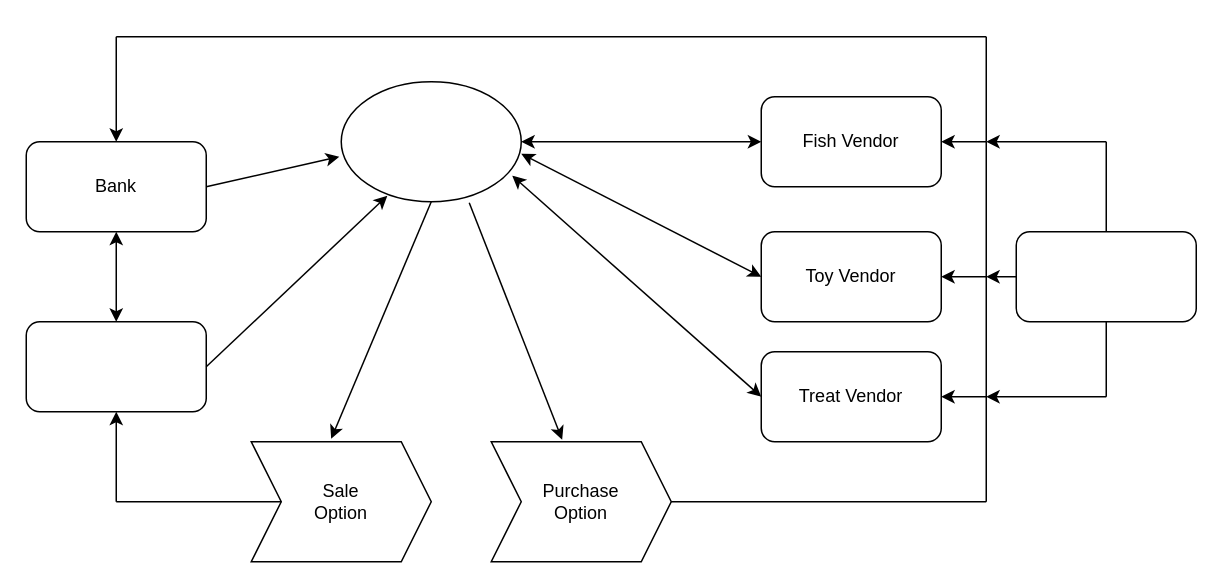
This 1223x588 diagram has some shape labels left out. The box of each missing label's shape, as (x1, y1, x2, y2) in pixels:
GUI Main: (340, 80, 521, 202)
Warehouse: (25, 320, 206, 412)
Wholesaler: (1015, 230, 1196, 322)
